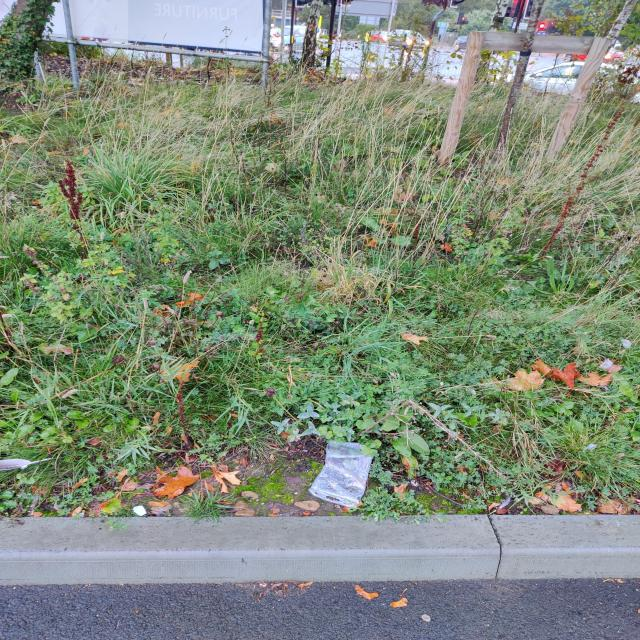litter: (308, 435, 380, 511)
